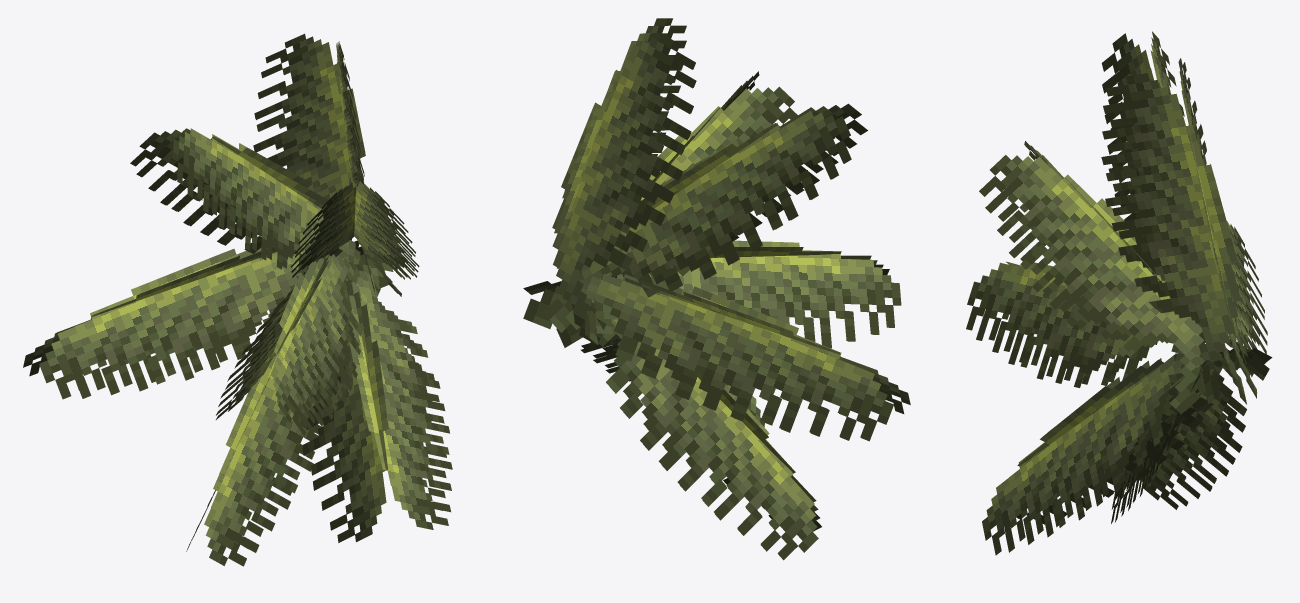
Rendered from palm_leaves.obj.
The picture shows the model from 3 angles, left to right: view 1: azimuth 30°, elevation 25°; view 2: azimuth 150°, elevation 25°; view 3: azimuth 270°, elevation 25°; orthographic projection. The views are drawn at different scales.
Visible parts, largest first — view 1: Frond.010_Cube.005, Frond_Cube.005, Frond.017_Cube.005, Frond.002_Cube.005, Frond.021_Cube.006, Frond.009_Cube.005, Frond.018_Cube.005; view 2: Frond_Cube.005, Frond.021_Cube.006, Frond.017_Cube.005, Frond.009_Cube.005, Frond.002_Cube.005, Frond.018_Cube.005, Frond.010_Cube.005; view 3: Frond.021_Cube.006, Frond.018_Cube.005, Frond.010_Cube.005, Frond.002_Cube.005, Frond.009_Cube.005, Frond.017_Cube.005, Frond_Cube.005.
Boxes of the visible parts, x1,y1,x2,y2 form: Frond.010_Cube.005: (302, 254, 452, 542); Frond_Cube.005: (23, 239, 388, 399); Frond.017_Cube.005: (130, 128, 364, 275); Frond.002_Cube.005: (216, 254, 380, 436); Frond.021_Cube.006: (253, 33, 375, 294); Frond.009_Cube.005: (186, 270, 384, 566); Frond.018_Cube.005: (290, 181, 419, 296); Frond_Cube.005: (523, 273, 910, 441); Frond.021_Cube.006: (552, 18, 696, 345); Frond.017_Cube.005: (556, 103, 867, 347); Frond.009_Cube.005: (543, 298, 821, 560); Frond.002_Cube.005: (586, 240, 901, 348); Frond.018_Cube.005: (580, 71, 797, 346); Frond.010_Cube.005: (523, 281, 764, 427); Frond.021_Cube.006: (1101, 58, 1253, 391); Frond.018_Cube.005: (979, 141, 1232, 414); Frond.010_Cube.005: (982, 348, 1272, 555); Frond.002_Cube.005: (966, 261, 1261, 394); Frond.009_Cube.005: (1111, 350, 1269, 523); Frond.017_Cube.005: (1101, 31, 1246, 404); Frond_Cube.005: (1175, 221, 1267, 398).
Bounding box in the file's own units: 3.41 × 4.37 × 2.45.
